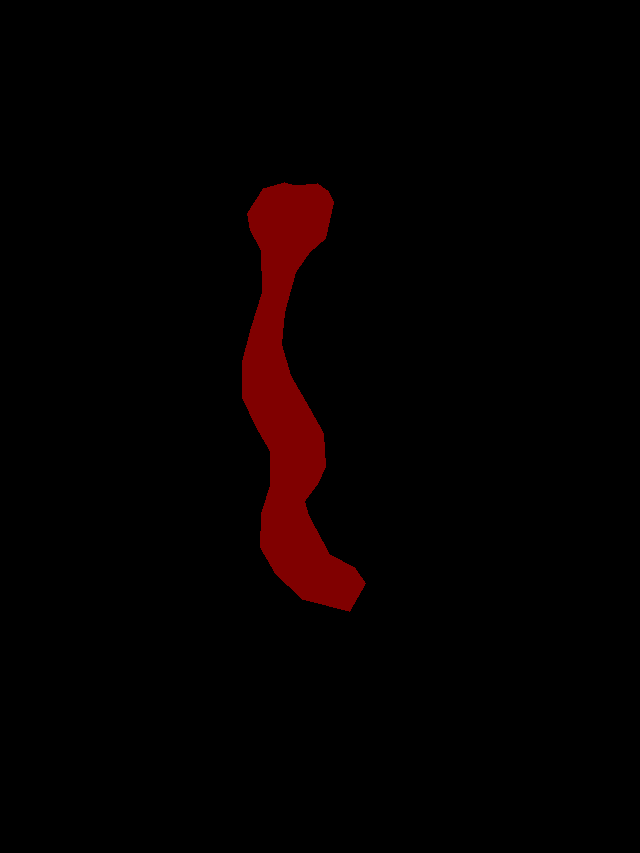fire: (242, 182, 365, 611)
